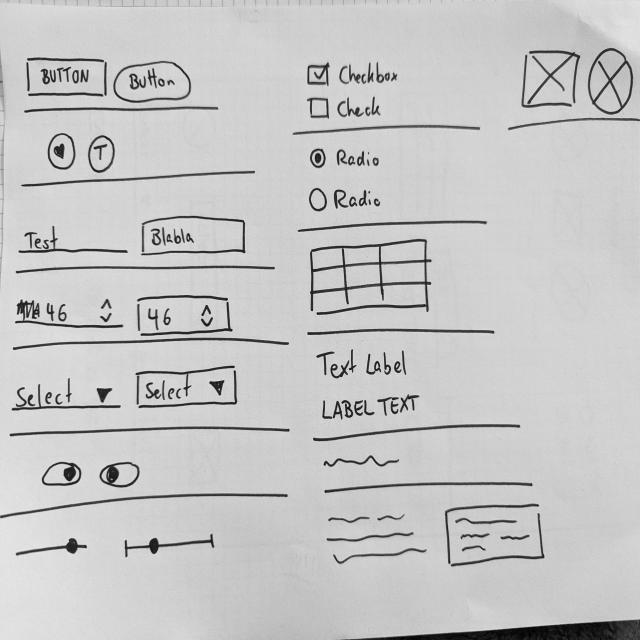button: (26, 57, 110, 99), (114, 61, 194, 104)
checkbox: (306, 62, 401, 89), (308, 96, 386, 121)
icon-button: (49, 132, 78, 173), (88, 134, 117, 175)
image: (521, 49, 581, 112), (588, 47, 636, 116)
input: (141, 214, 249, 259), (18, 224, 130, 257)
label: (316, 351, 414, 381), (321, 394, 421, 423)
number-input: (135, 294, 233, 340), (13, 294, 125, 332)
radio: (309, 187, 384, 214), (309, 147, 382, 171)
select: (132, 363, 240, 411), (12, 377, 124, 413)
slider: (124, 533, 220, 561), (16, 537, 93, 560)
table: (310, 237, 432, 321)
text: (318, 453, 404, 474)
textbox: (445, 502, 547, 570), (324, 511, 432, 570)
toggle: (41, 460, 84, 489), (98, 462, 143, 489)
